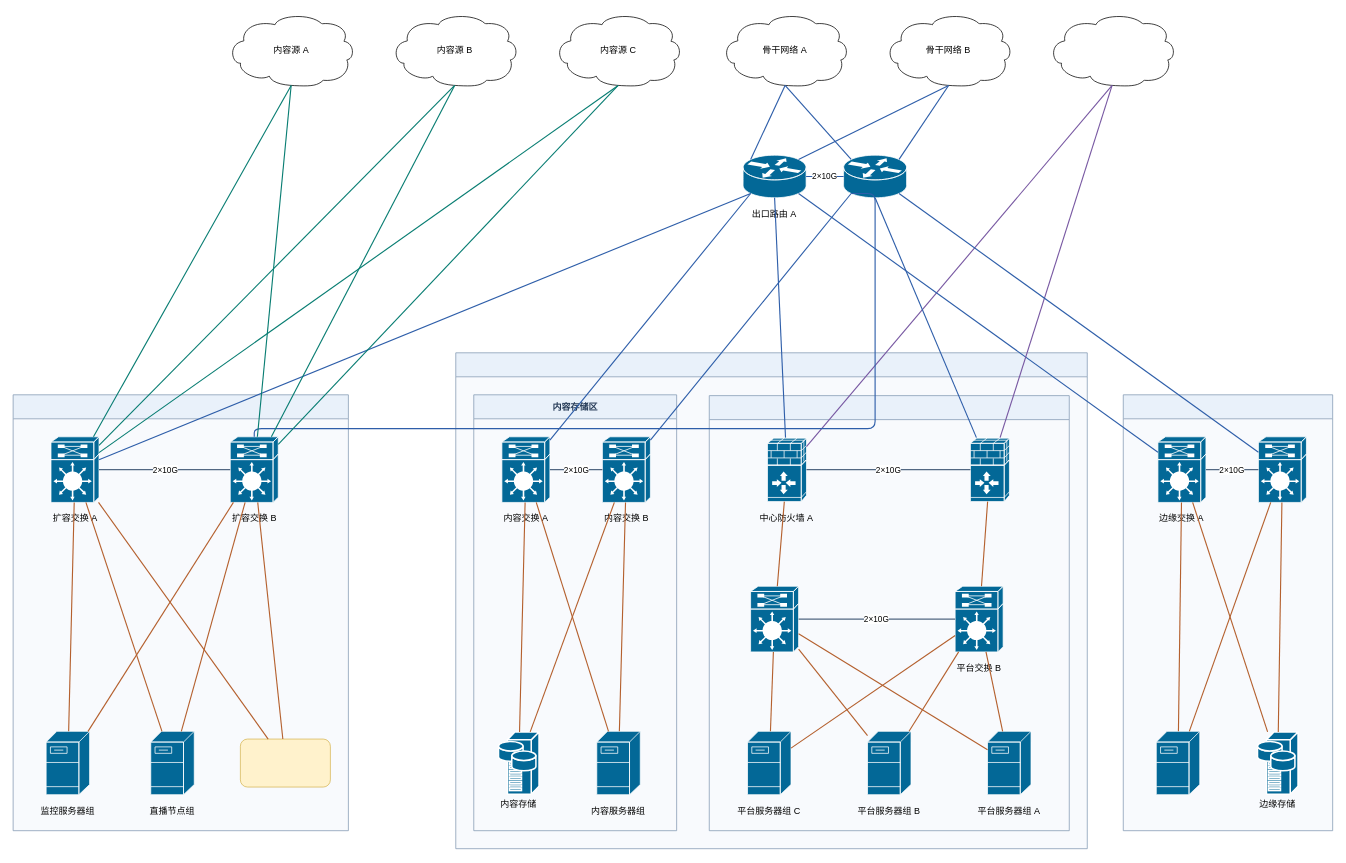
Some shapes in this 1346 by 863 pixel diagram are drawn without their labels. The box of each missing label's shape, as (x1, y1, x2, y2) in pixels:
业务平台区: (709, 395, 1069, 831)
中心机房: (455, 352, 1087, 849)
中心防火墙 B: (970, 437, 1009, 502)
出口路由 B: (843, 154, 907, 198)
平台交换 A: (750, 586, 799, 652)
扩容机房: (12, 394, 348, 831)
直播矩阵: (240, 738, 330, 787)
管理网络: (1048, 12, 1176, 86)
缓存服务器组: (1156, 731, 1200, 795)
边缘交换 B: (1258, 436, 1306, 502)
边缘机房: (1123, 394, 1333, 831)
